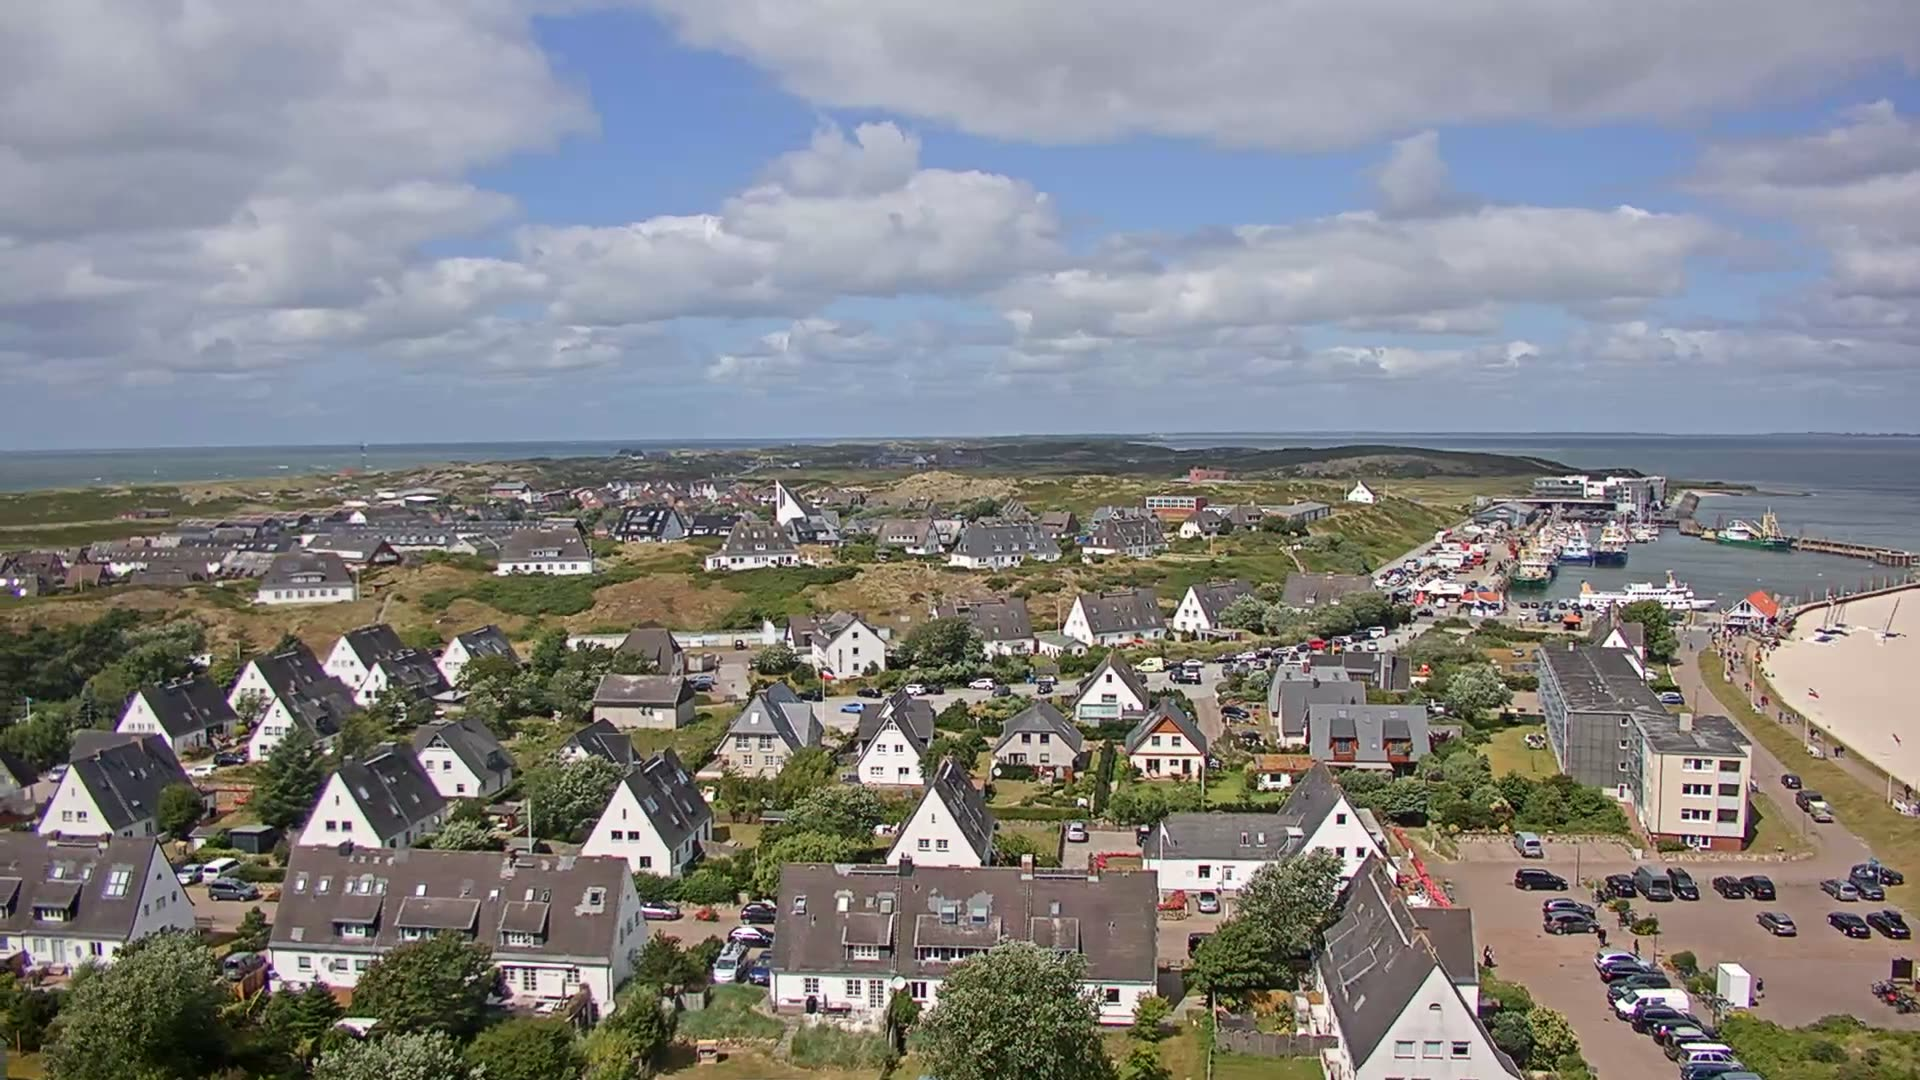human: (1485, 947, 1495, 967), (1755, 976, 1765, 998), (1597, 926, 1605, 947), (1482, 944, 1489, 965), (1633, 937, 1640, 954), (1738, 650, 1746, 664), (1732, 649, 1738, 663), (1778, 710, 1784, 722), (1728, 658, 1734, 670), (1904, 783, 1910, 798), (1786, 711, 1791, 723), (1809, 727, 1814, 738), (1792, 711, 1798, 723), (1834, 746, 1839, 757), (1839, 744, 1844, 757), (1689, 642, 1694, 652), (1763, 696, 1768, 706), (1765, 650, 1770, 660), (1712, 620, 1717, 628), (1744, 681, 1749, 691), (1760, 695, 1765, 705), (1483, 563, 1487, 570)
land: (1611, 987, 1687, 1021), (1593, 948, 1663, 982), (1630, 1004, 1702, 1035), (1674, 1042, 1742, 1071), (1660, 1027, 1712, 1061), (1650, 1019, 1719, 1045), (711, 941, 750, 985), (1600, 960, 1665, 982), (1631, 864, 1671, 901), (1542, 910, 1599, 935), (220, 950, 265, 981), (207, 877, 258, 903), (1794, 788, 1833, 822), (1865, 909, 1910, 938), (1514, 868, 1567, 891), (1850, 862, 1903, 886), (1678, 1062, 1744, 1080), (1665, 865, 1700, 900), (1755, 910, 1797, 938), (201, 857, 244, 883), (1826, 911, 1870, 938), (1605, 984, 1654, 1006), (746, 949, 775, 986), (1543, 897, 1594, 917), (1606, 973, 1670, 989), (728, 925, 773, 946), (1847, 873, 1883, 900), (1740, 873, 1775, 899), (1819, 877, 1858, 900), (1712, 874, 1744, 899), (1513, 831, 1542, 859), (641, 901, 680, 920), (740, 903, 777, 925), (1604, 873, 1635, 897), (174, 863, 202, 887), (1195, 889, 1219, 913), (1878, 987, 1908, 1005), (211, 751, 245, 767), (1711, 1070, 1763, 1080), (183, 764, 217, 778), (1134, 656, 1163, 672), (1895, 995, 1920, 1014), (1066, 820, 1086, 841), (1872, 979, 1898, 996), (47, 763, 69, 783), (796, 688, 824, 702), (1780, 773, 1803, 789), (1135, 822, 1150, 845), (1221, 705, 1250, 717), (968, 677, 995, 689), (1173, 673, 1201, 684), (841, 702, 866, 713), (1363, 625, 1386, 638), (903, 683, 926, 696), (855, 687, 882, 698), (1641, 666, 1660, 681), (1221, 713, 1247, 724), (1658, 693, 1684, 704), (688, 674, 713, 685), (1181, 657, 1206, 667), (992, 684, 1011, 697), (1037, 681, 1053, 695), (1213, 652, 1235, 662), (1035, 673, 1057, 683), (1255, 647, 1272, 659), (694, 682, 712, 692), (926, 683, 944, 694), (1169, 666, 1181, 680), (1654, 690, 1678, 698), (1235, 650, 1256, 660), (1164, 659, 1184, 669), (1308, 639, 1325, 650), (1271, 645, 1288, 655), (1252, 658, 1267, 669), (1349, 631, 1369, 640), (734, 637, 745, 652), (1536, 610, 1549, 621), (1416, 607, 1431, 616), (1551, 612, 1562, 622), (1332, 635, 1350, 642), (1294, 641, 1308, 649), (1435, 596, 1445, 607), (1517, 611, 1529, 620), (1366, 641, 1378, 650), (1289, 650, 1300, 660), (1542, 599, 1552, 608), (1601, 927, 1606, 945), (1512, 647, 1525, 656), (1270, 658, 1279, 667), (1489, 602, 1501, 609), (1558, 600, 1567, 608), (1585, 603, 1594, 610), (1468, 579, 1477, 587), (1574, 609, 1583, 617), (1571, 601, 1580, 608), (1531, 601, 1539, 607), (1521, 601, 1529, 607)
sea: (1556, 566, 1716, 612), (1716, 504, 1795, 549), (1593, 517, 1627, 566), (1556, 527, 1592, 568), (1508, 559, 1551, 589), (1813, 604, 1848, 638), (1520, 546, 1556, 577), (1881, 596, 1903, 638), (1634, 494, 1650, 543), (1643, 503, 1658, 535), (1834, 601, 1849, 630), (1648, 534, 1658, 542)
